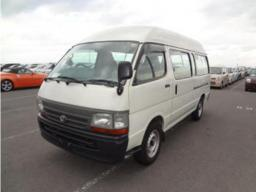Van: (34, 26, 214, 163)
